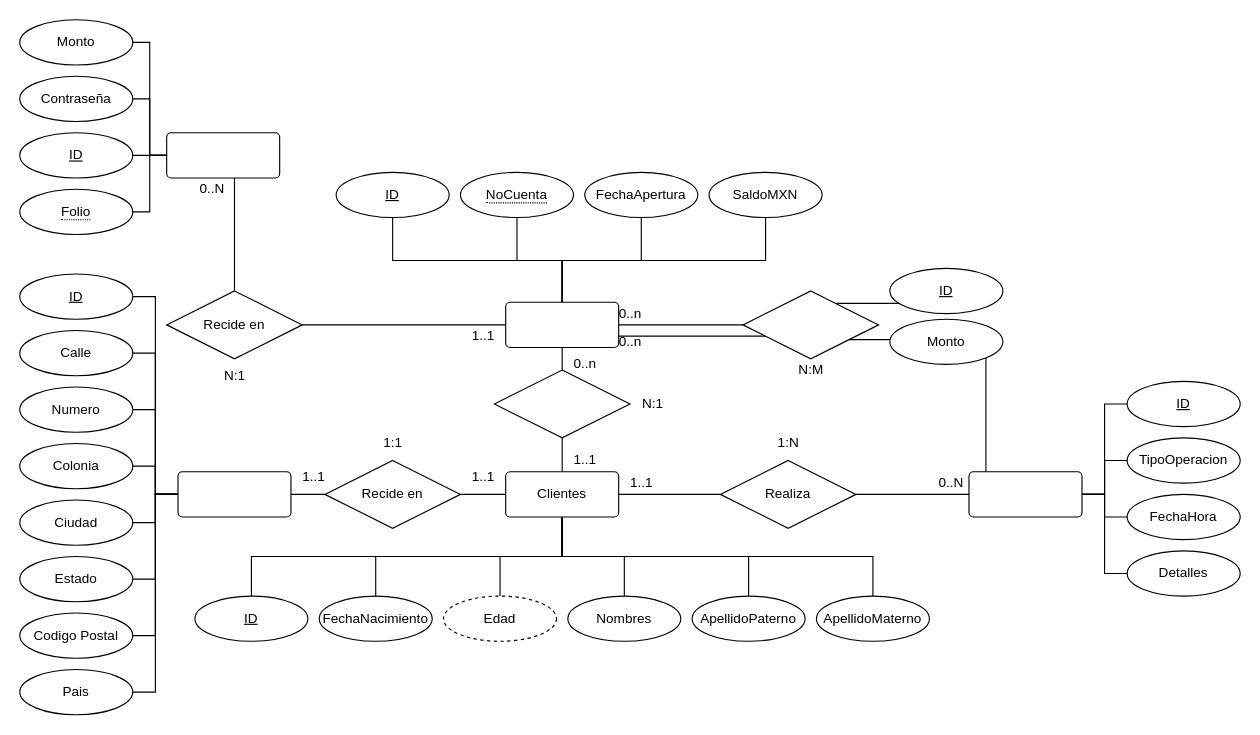
Some shapes in this 1260 by 735 pixel diagram are drawn without their labels. The shapes that lost their labels are listed below. From the top down, each one's centre as x and y in pixels, then its label:
At [223,155]: "RetirosSinCuenta".
At [562,324]: "CuentasBancarias".
At [810,324]: "Transferencia".
At [561,403]: "Posee".
At [234,494]: "Domicilios".
At [1025,494]: "Operaciones".
